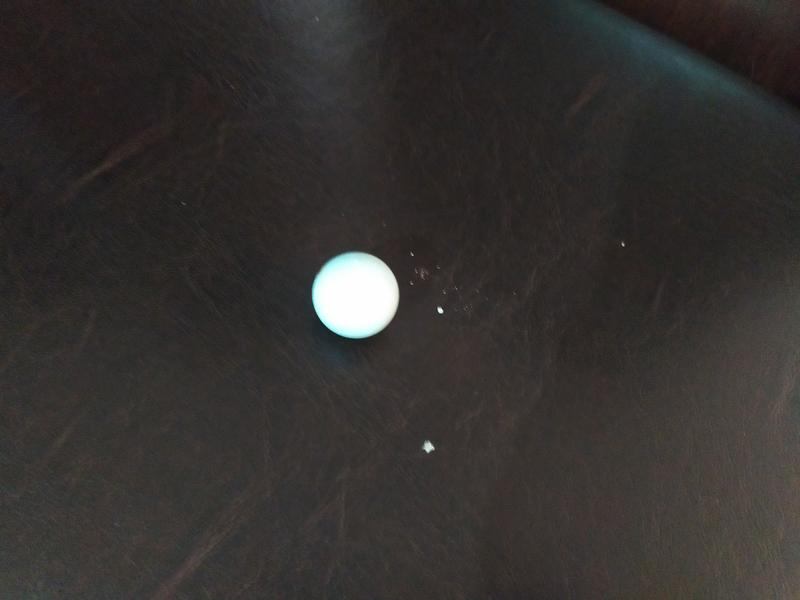Warning: (309, 249, 402, 342)
